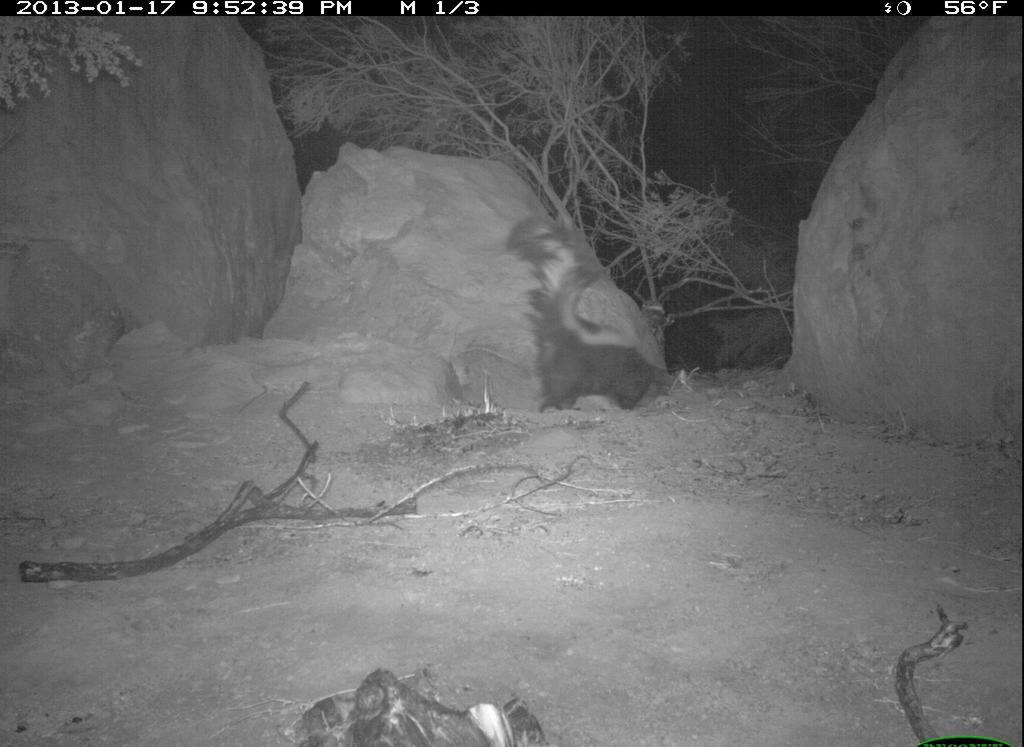skunk: (510, 201, 680, 424)
